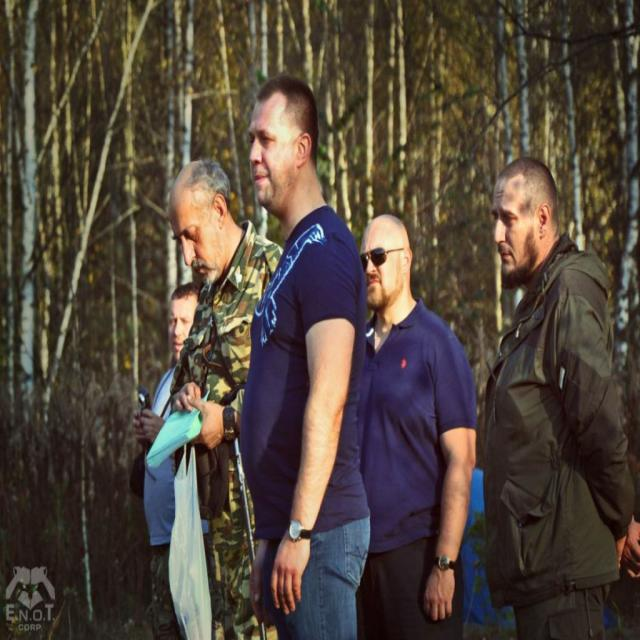body: (230, 68, 384, 639), (472, 147, 640, 639), (163, 157, 286, 640), (353, 209, 479, 640), (127, 277, 208, 639)
